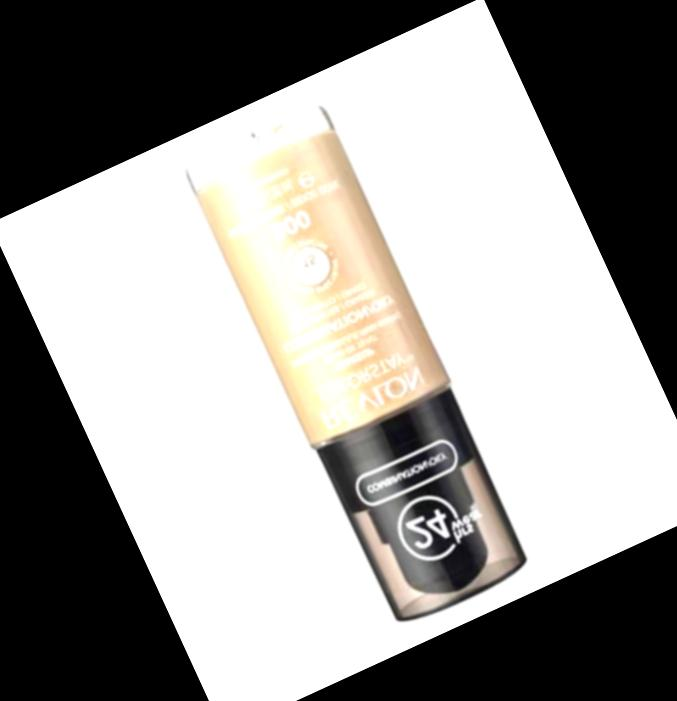cosmetic: (181, 101, 539, 631)
